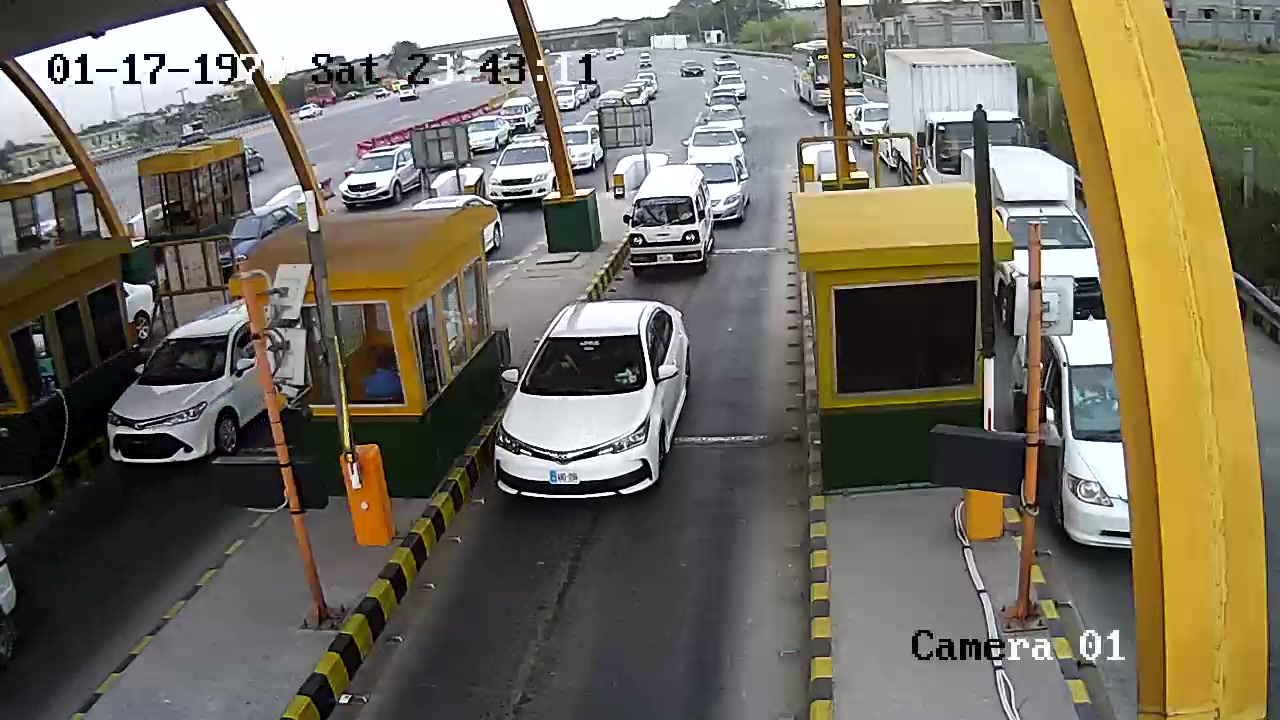F1: (468, 295, 728, 522)
